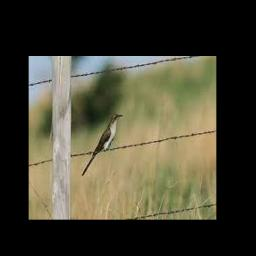Cuckoo: (82, 113, 124, 176)
